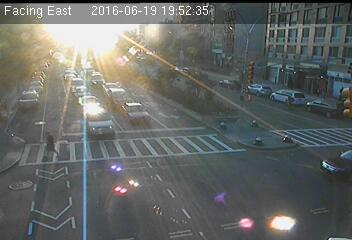neg: (233, 108, 256, 138), (292, 58, 312, 85), (243, 78, 261, 102)
pos: (35, 129, 58, 161)
